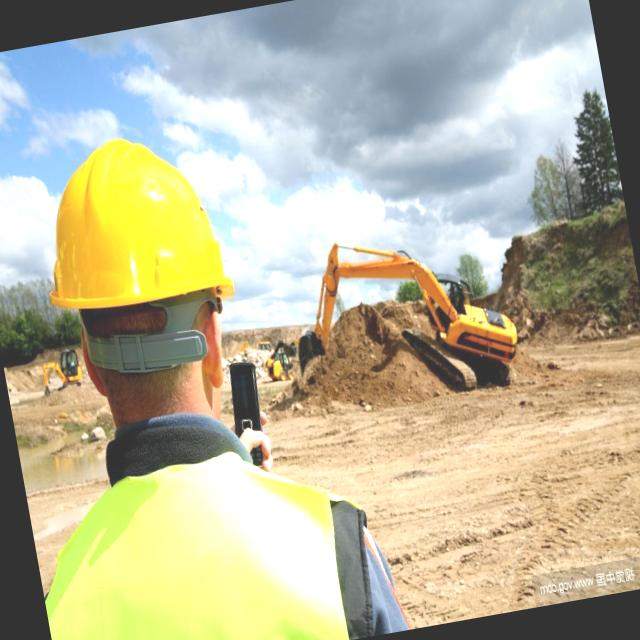helmet: (17, 122, 238, 323)
vest: (25, 418, 396, 640)
